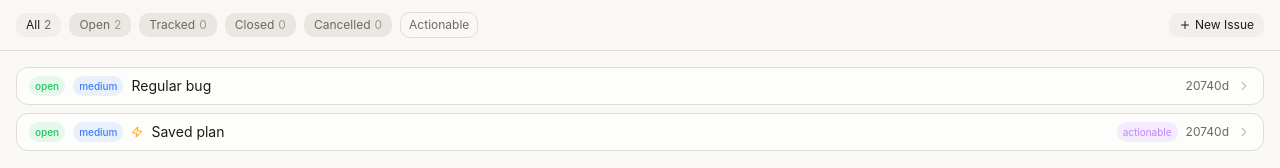
Test: LocalIssuesPanel - actionable filter › filters to actionable issues when the chip is active
expect the text "Regular bug" is shown: met, box [132,77,211,94]
expect the text "Saved plan" is shown: met, box [152,123,224,140]
Click the button "Actionable" at (439, 25), box [400,12,478,38]
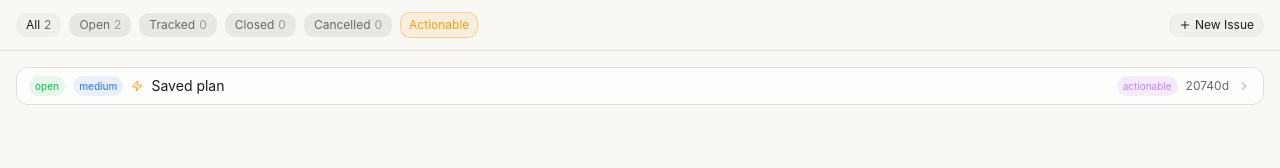
expect the text "Saved plan" is shown: met, box [152,77,224,94]
expect the button "Regular bug" is gone: met
